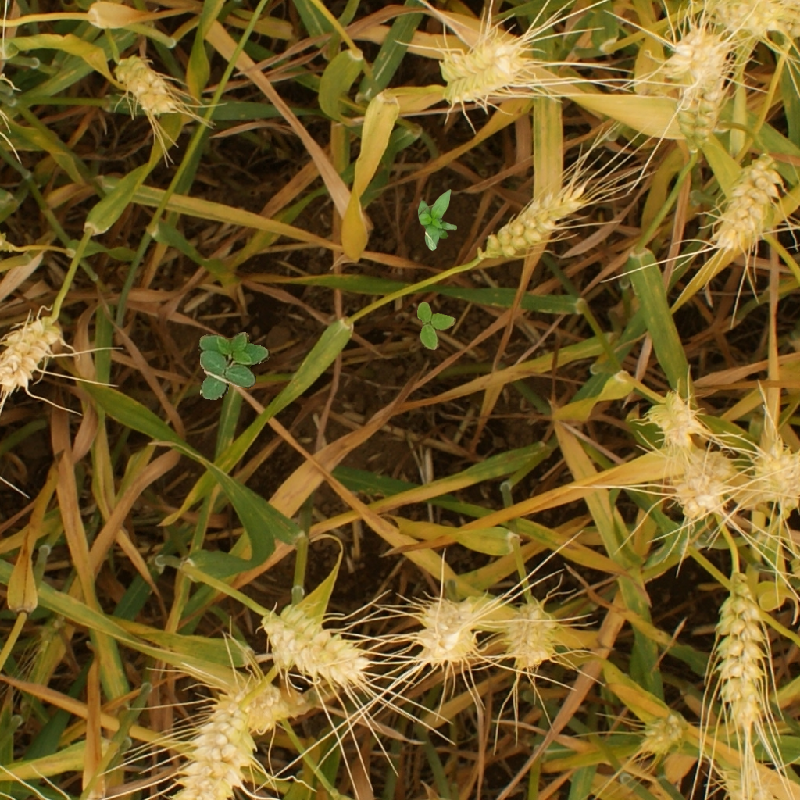spikelet: (166, 694, 260, 799), (711, 575, 772, 730), (478, 181, 589, 262), (260, 602, 367, 685), (708, 151, 782, 256), (440, 35, 528, 104), (412, 594, 480, 668), (1, 315, 62, 396), (111, 52, 178, 118), (661, 24, 730, 87), (502, 598, 561, 671), (671, 77, 726, 149), (671, 458, 729, 524), (645, 386, 705, 448), (702, 1, 783, 41), (752, 443, 800, 509), (230, 676, 285, 733), (637, 709, 690, 758)
weed: (198, 332, 270, 400), (418, 189, 457, 251), (417, 302, 456, 350)
